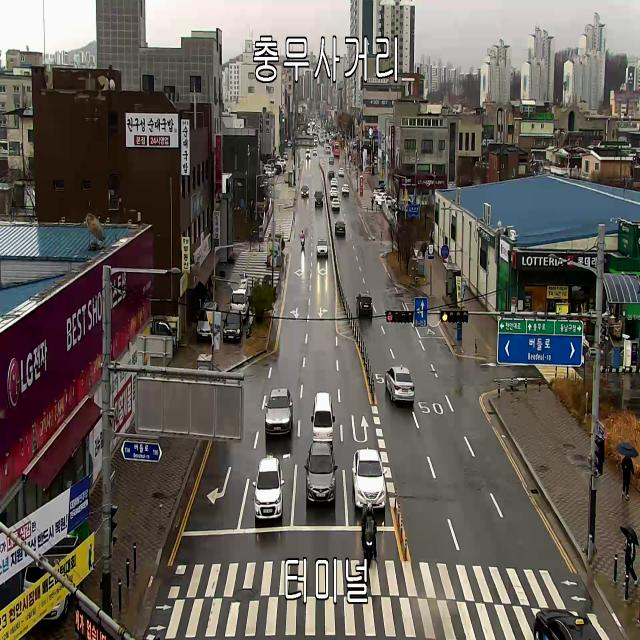Bus: (332, 142, 340, 156)
Car: (533, 608, 603, 640), (352, 449, 387, 508), (252, 458, 285, 520), (304, 442, 338, 502), (265, 388, 293, 436), (311, 392, 335, 446), (385, 366, 415, 402), (196, 302, 218, 339), (223, 309, 243, 341), (356, 293, 373, 317), (231, 272, 248, 292), (378, 195, 397, 207), (316, 238, 328, 255), (334, 221, 346, 236), (314, 190, 324, 206), (263, 164, 278, 174), (375, 192, 387, 202), (373, 188, 385, 197), (332, 198, 340, 210), (301, 186, 309, 197), (330, 187, 338, 198), (330, 178, 338, 187), (342, 184, 349, 194), (328, 171, 335, 178), (339, 167, 344, 176), (283, 152, 288, 160), (306, 148, 310, 158), (329, 157, 334, 164), (326, 146, 331, 153), (374, 156, 378, 164), (314, 141, 318, 147), (313, 150, 317, 155), (322, 138, 325, 142)
Motorcycle: (357, 497, 383, 571), (298, 228, 309, 254)
Truck: (13, 494, 99, 629), (150, 317, 177, 352), (229, 288, 250, 320), (308, 123, 310, 131)
